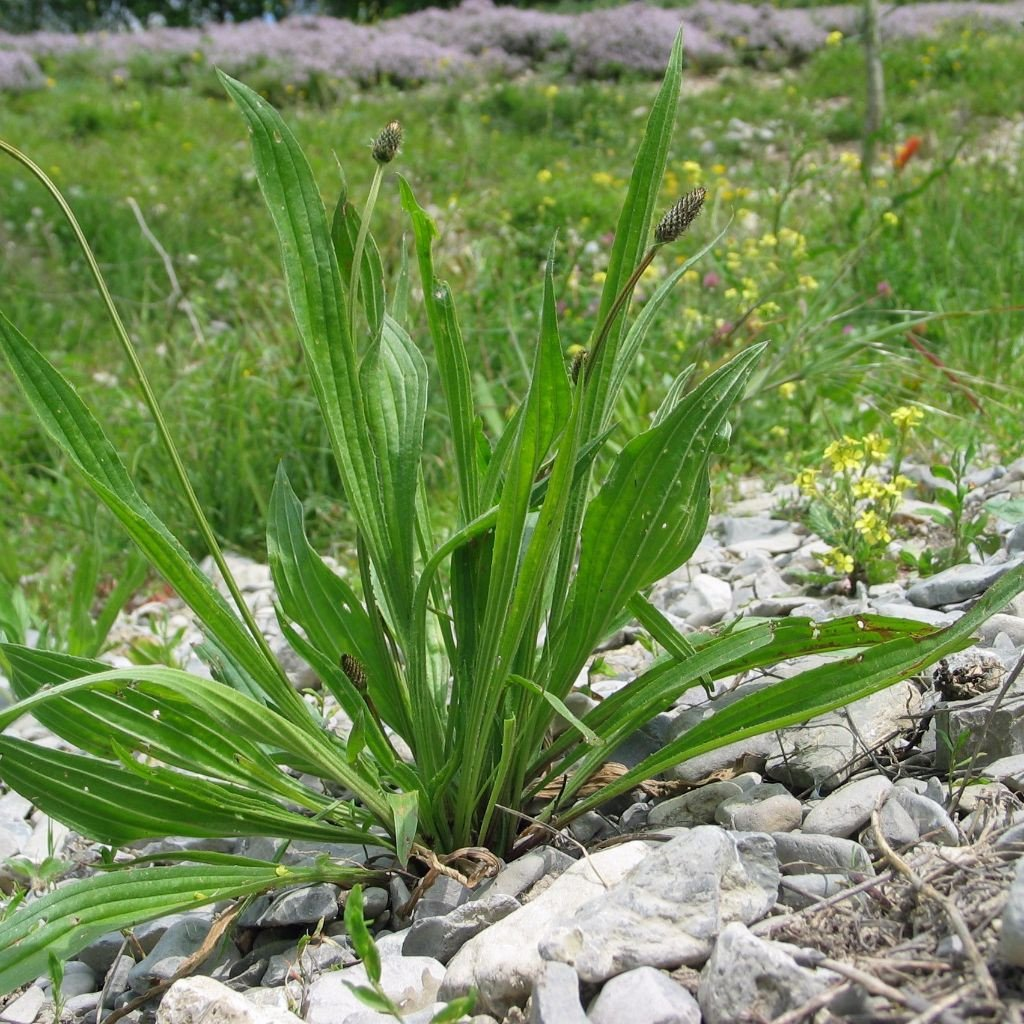buckhorn plantain: (64, 65, 832, 912)
